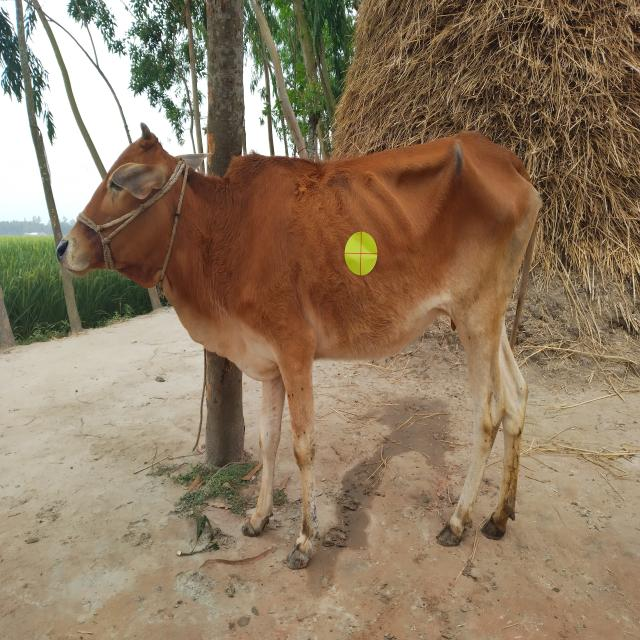badan_sapi: (226, 148, 539, 358)
sapi: (46, 116, 573, 578)
